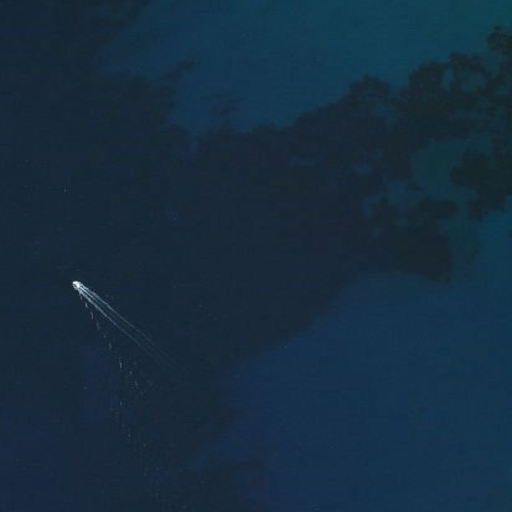ship: (70, 278, 84, 293)
